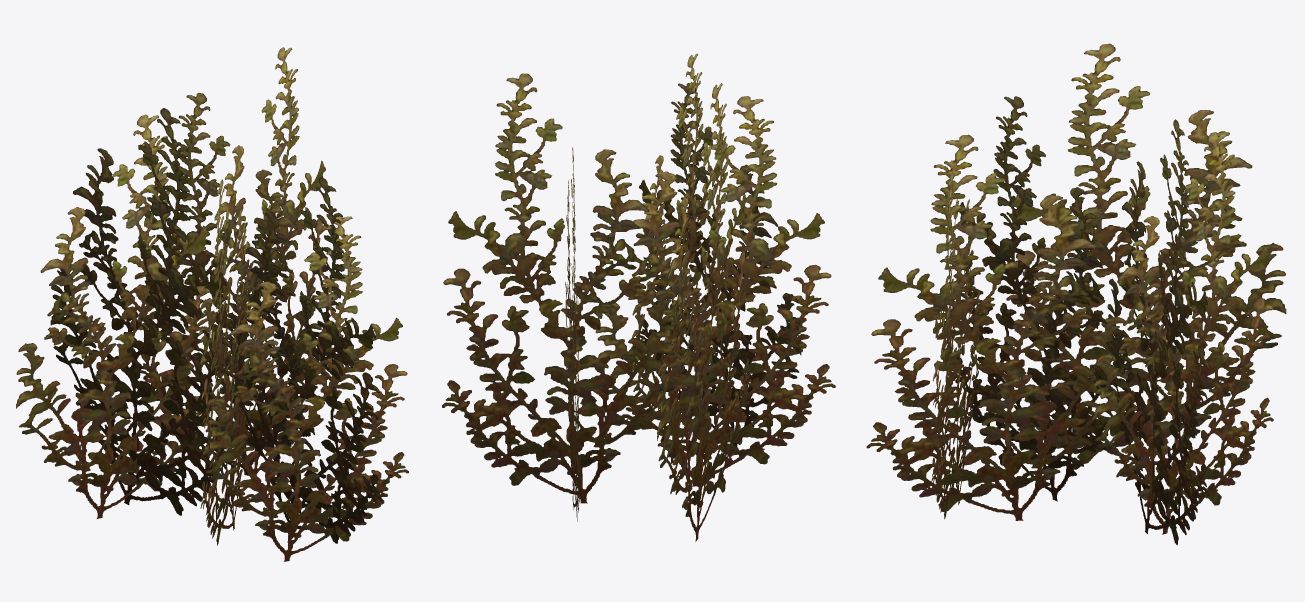
3 views of the same model, side by side, from view 1: azimuth 30°, elevation 25°; view 2: azimuth 150°, elevation 25°; view 3: azimuth 270°, elevation 25° (orthographic). The views are drawn at different scales.
Visible parts, largest first — view 1: wm_15; view 2: wm_15; view 3: wm_15.
Part boxes in pixels (box(x1,y1,x2,y2)): wm_15: box(16, 47, 408, 561); wm_15: box(442, 53, 835, 541); wm_15: box(866, 43, 1286, 545).
Size of the model in its own units: 109 by 127 by 111.
